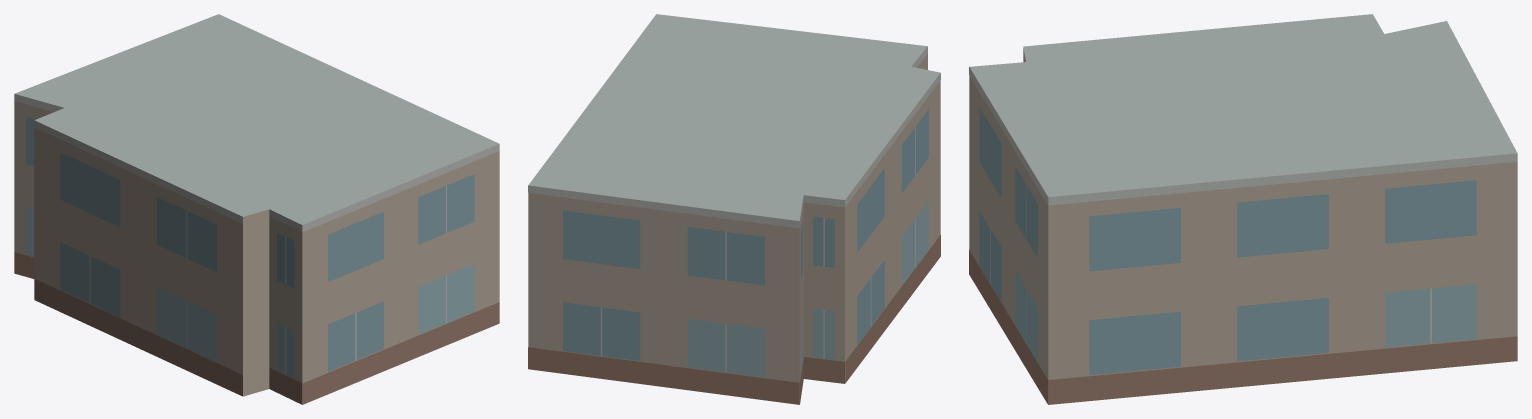
Rendered from survey-upis-32604771.glb.
3 views of the same model, side by side, from view 1: azimuth 30°, elevation 25°; view 2: azimuth 150°, elevation 25°; view 3: azimuth 270°, elevation 25° (orthographic). The views are drawn at different scales.
Parts seen in each view (by area): view 1: survey-upis-32604771.tmp; view 2: survey-upis-32604771.tmp; view 3: survey-upis-32604771.tmp.
Boxes of the visible parts, x1,y1,x2,y2 form: survey-upis-32604771.tmp: (14,14,499,404); survey-upis-32604771.tmp: (528,14,940,404); survey-upis-32604771.tmp: (969,14,1517,404).
Bounding box in the file's own units: 11.55 × 6.1 × 14.61.
